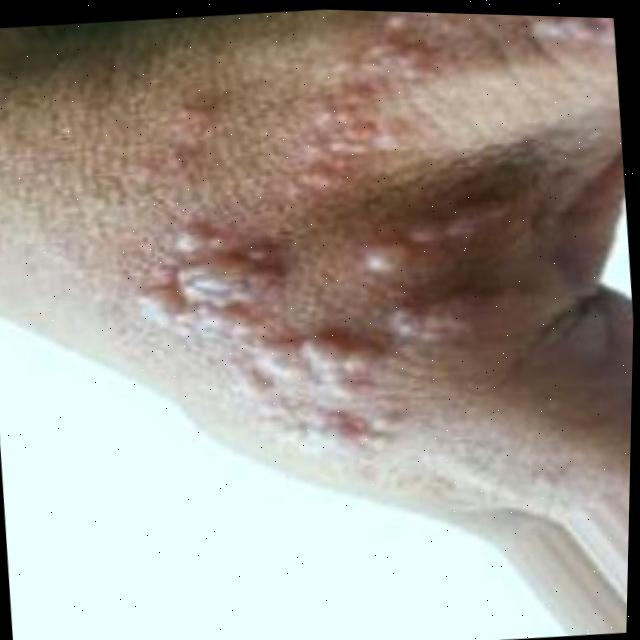Shingles: (116, 4, 640, 466)
